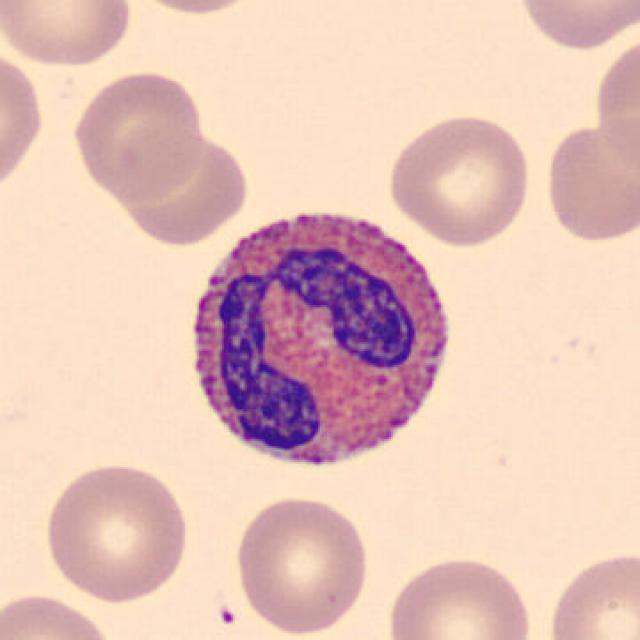Eosinophil: (174, 192, 464, 488)
RBC: (39, 456, 192, 606), (230, 490, 374, 638), (384, 109, 535, 249), (68, 65, 208, 205), (121, 133, 249, 245), (382, 552, 537, 640), (539, 116, 638, 247), (0, 0, 137, 71), (542, 546, 638, 640), (590, 26, 638, 187), (0, 44, 48, 199), (512, 0, 638, 53), (0, 589, 119, 640), (117, 0, 270, 18)
